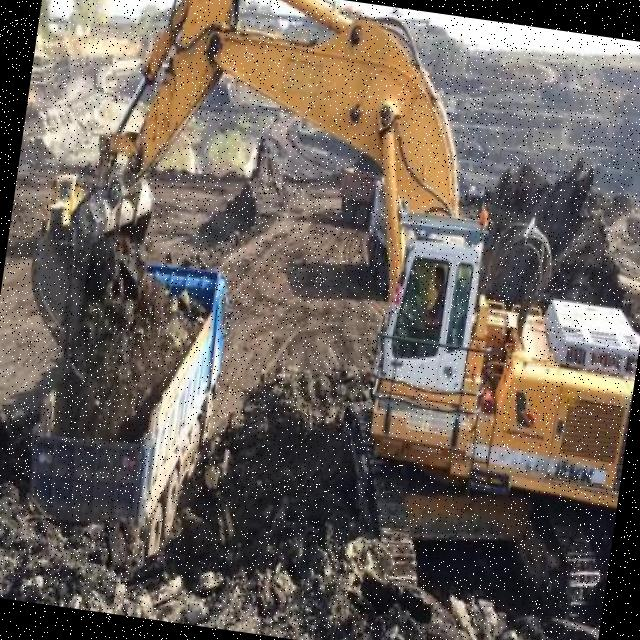Dump Truck: (18, 242, 242, 566), (334, 153, 382, 232)
Excavator: (0, 0, 640, 628)
